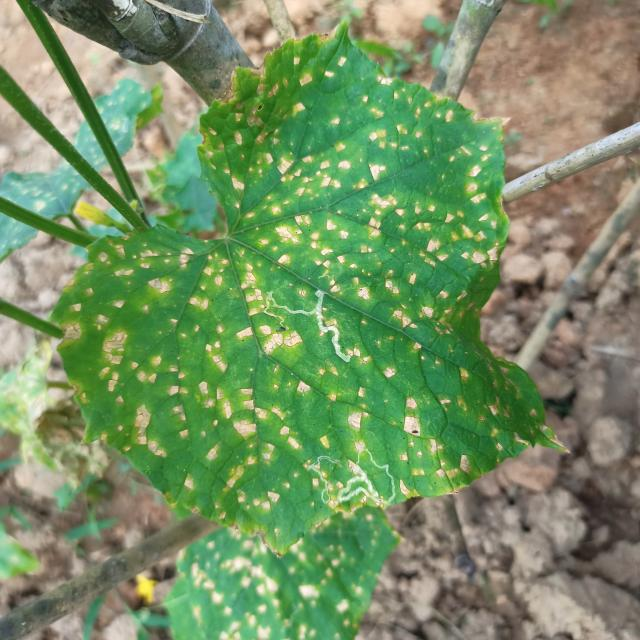disease_cucumber: (82, 69, 510, 516)
